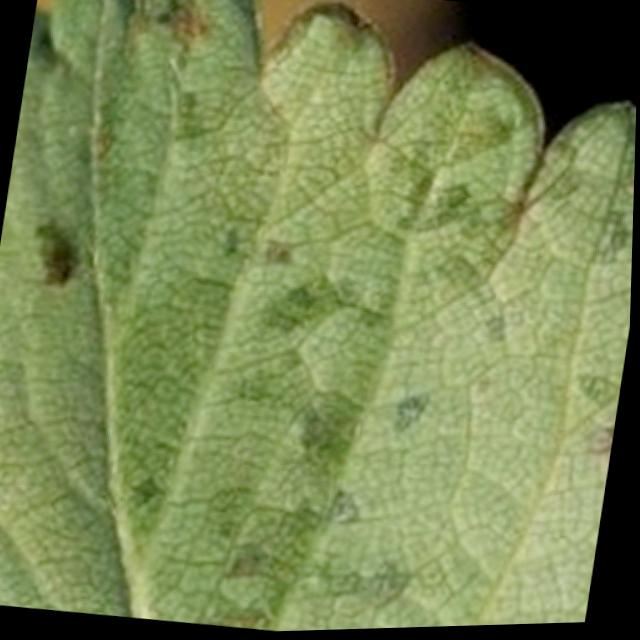Angular Leafspot: (11, 0, 637, 633)
